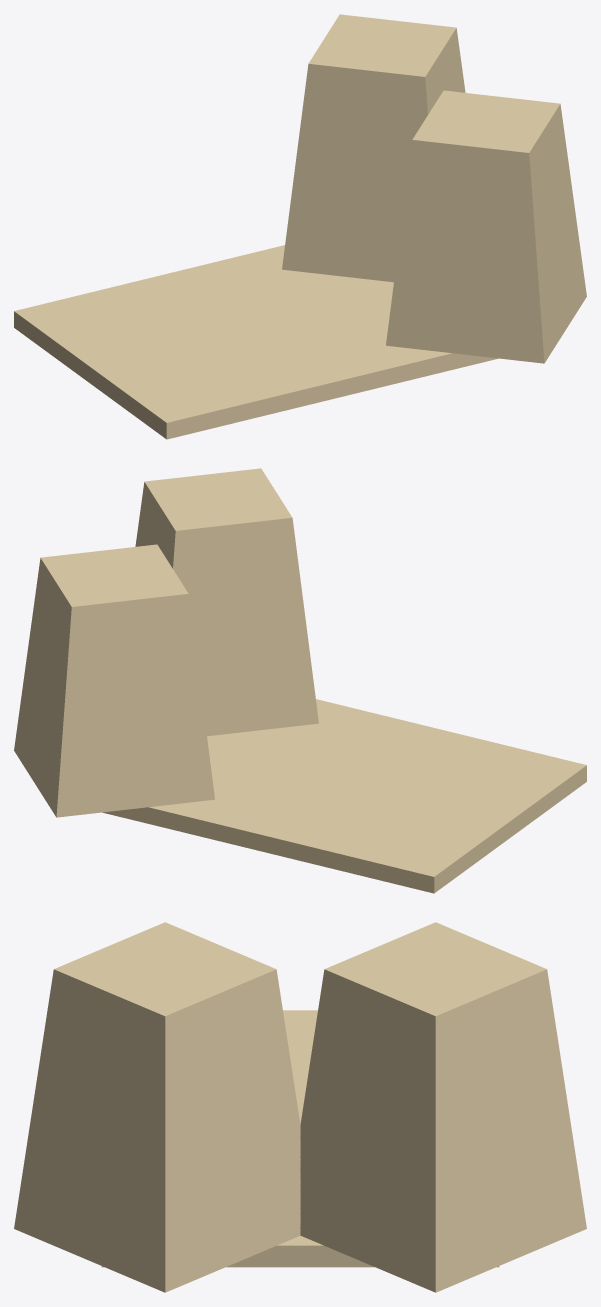
Rendered from egyptian_s2.glb.
The picture shows the model from 3 angles, top to bottom: view 1: azimuth 30°, elevation 25°; view 2: azimuth 150°, elevation 25°; view 3: azimuth 270°, elevation 25°; orthographic projection. The views are drawn at different scales.
Parts seen in each view (by area): view 1: Cube, Cone, Cone.001; view 2: Cube, Cone.001, Cone; view 3: Cone, Cone.001, Cube.
Boxes of the visible parts, x1=… form: Cube: x1=14, y1=245, x2=498, y2=439; Cone: x1=386, y1=90, x2=586, y2=363; Cone.001: x1=282, y1=14, x2=465, y2=282; Cube: x1=102, y1=699, x2=586, y2=893; Cone.001: x1=14, y1=544, x2=214, y2=817; Cone: x1=135, y1=468, x2=318, y2=736; Cone: x1=14, y1=922, x2=300, y2=1292; Cone.001: x1=300, y1=922, x2=586, y2=1292; Cube: x1=101, y1=1010, x2=499, y2=1267.
Size of the model in its own units: 8.4 by 3.9 by 7.2.
